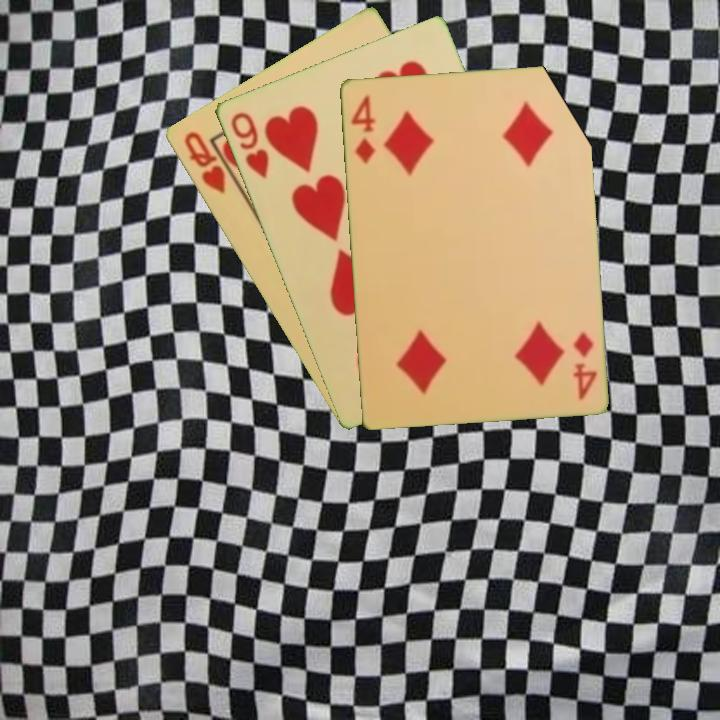4d: (347, 91, 377, 167), (569, 327, 599, 403)
9h: (226, 108, 271, 181)
Qh: (180, 127, 228, 197)
